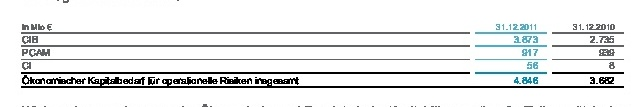table: (0, 0, 644, 107)
